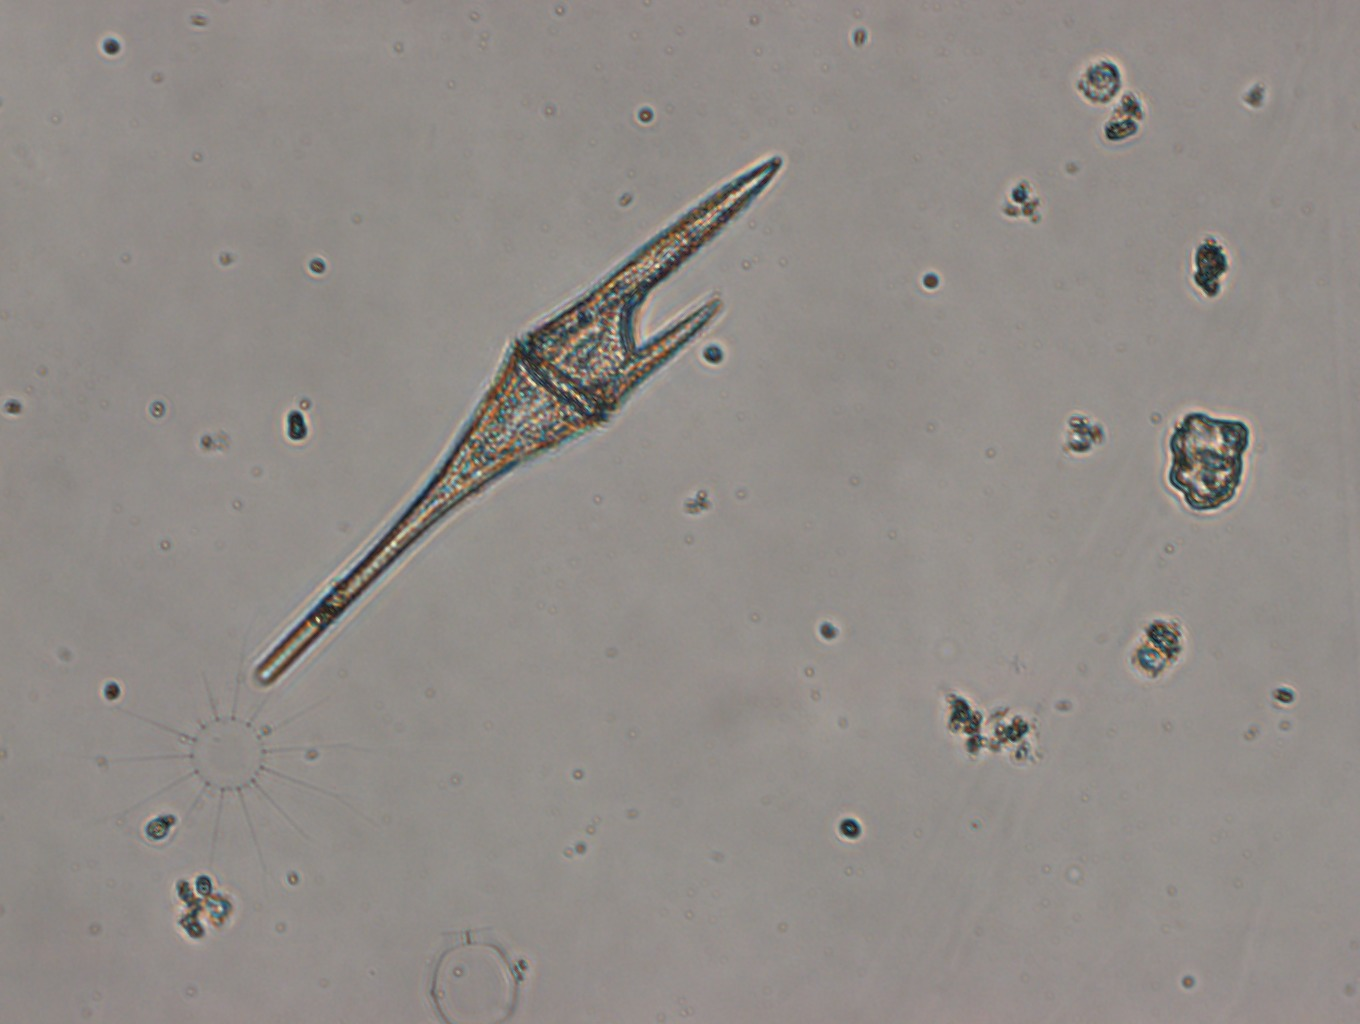bacteriastrum: (112, 653, 349, 872)
ceratium furca: (248, 148, 787, 694)
